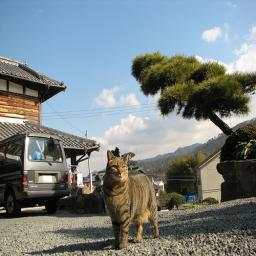catnose: (118, 166, 122, 176)
